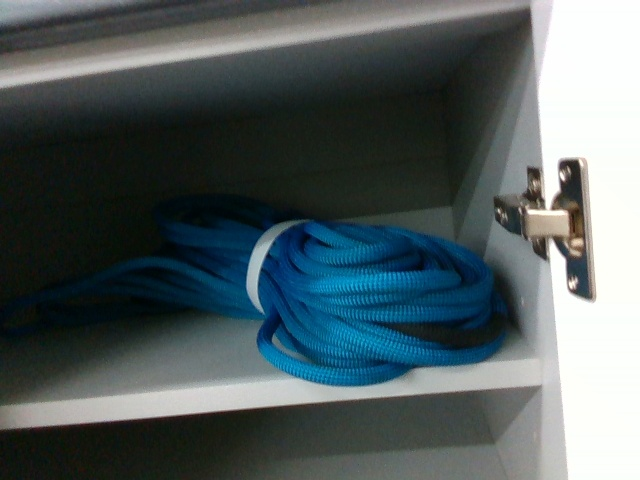rope: (141, 223, 515, 380)
